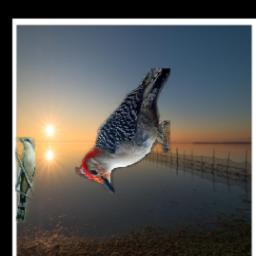Cuckoo: (16, 137, 36, 223)
Woodpecker: (75, 68, 170, 193)
